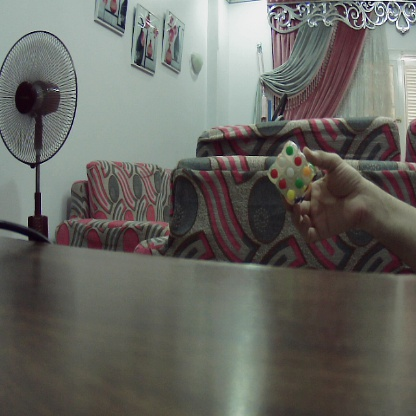Rubix Cube: (268, 145, 314, 200)
